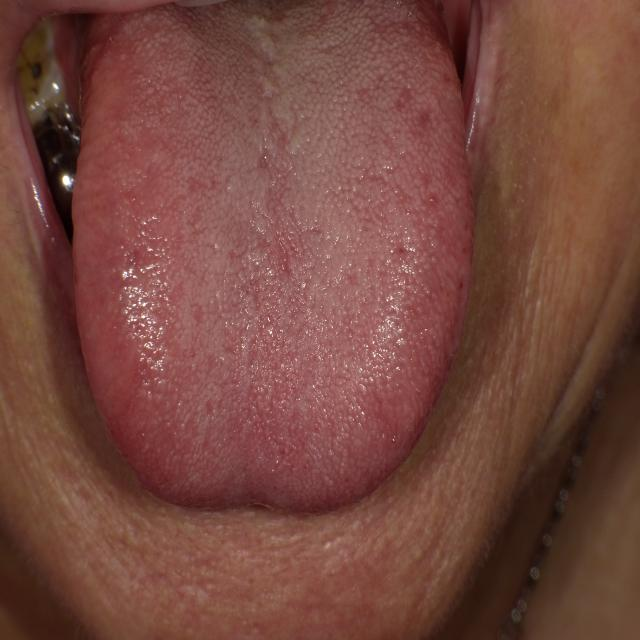hongdianshe: (455, 279, 467, 293), (395, 244, 407, 257)
hongshe: (71, 4, 474, 513)
